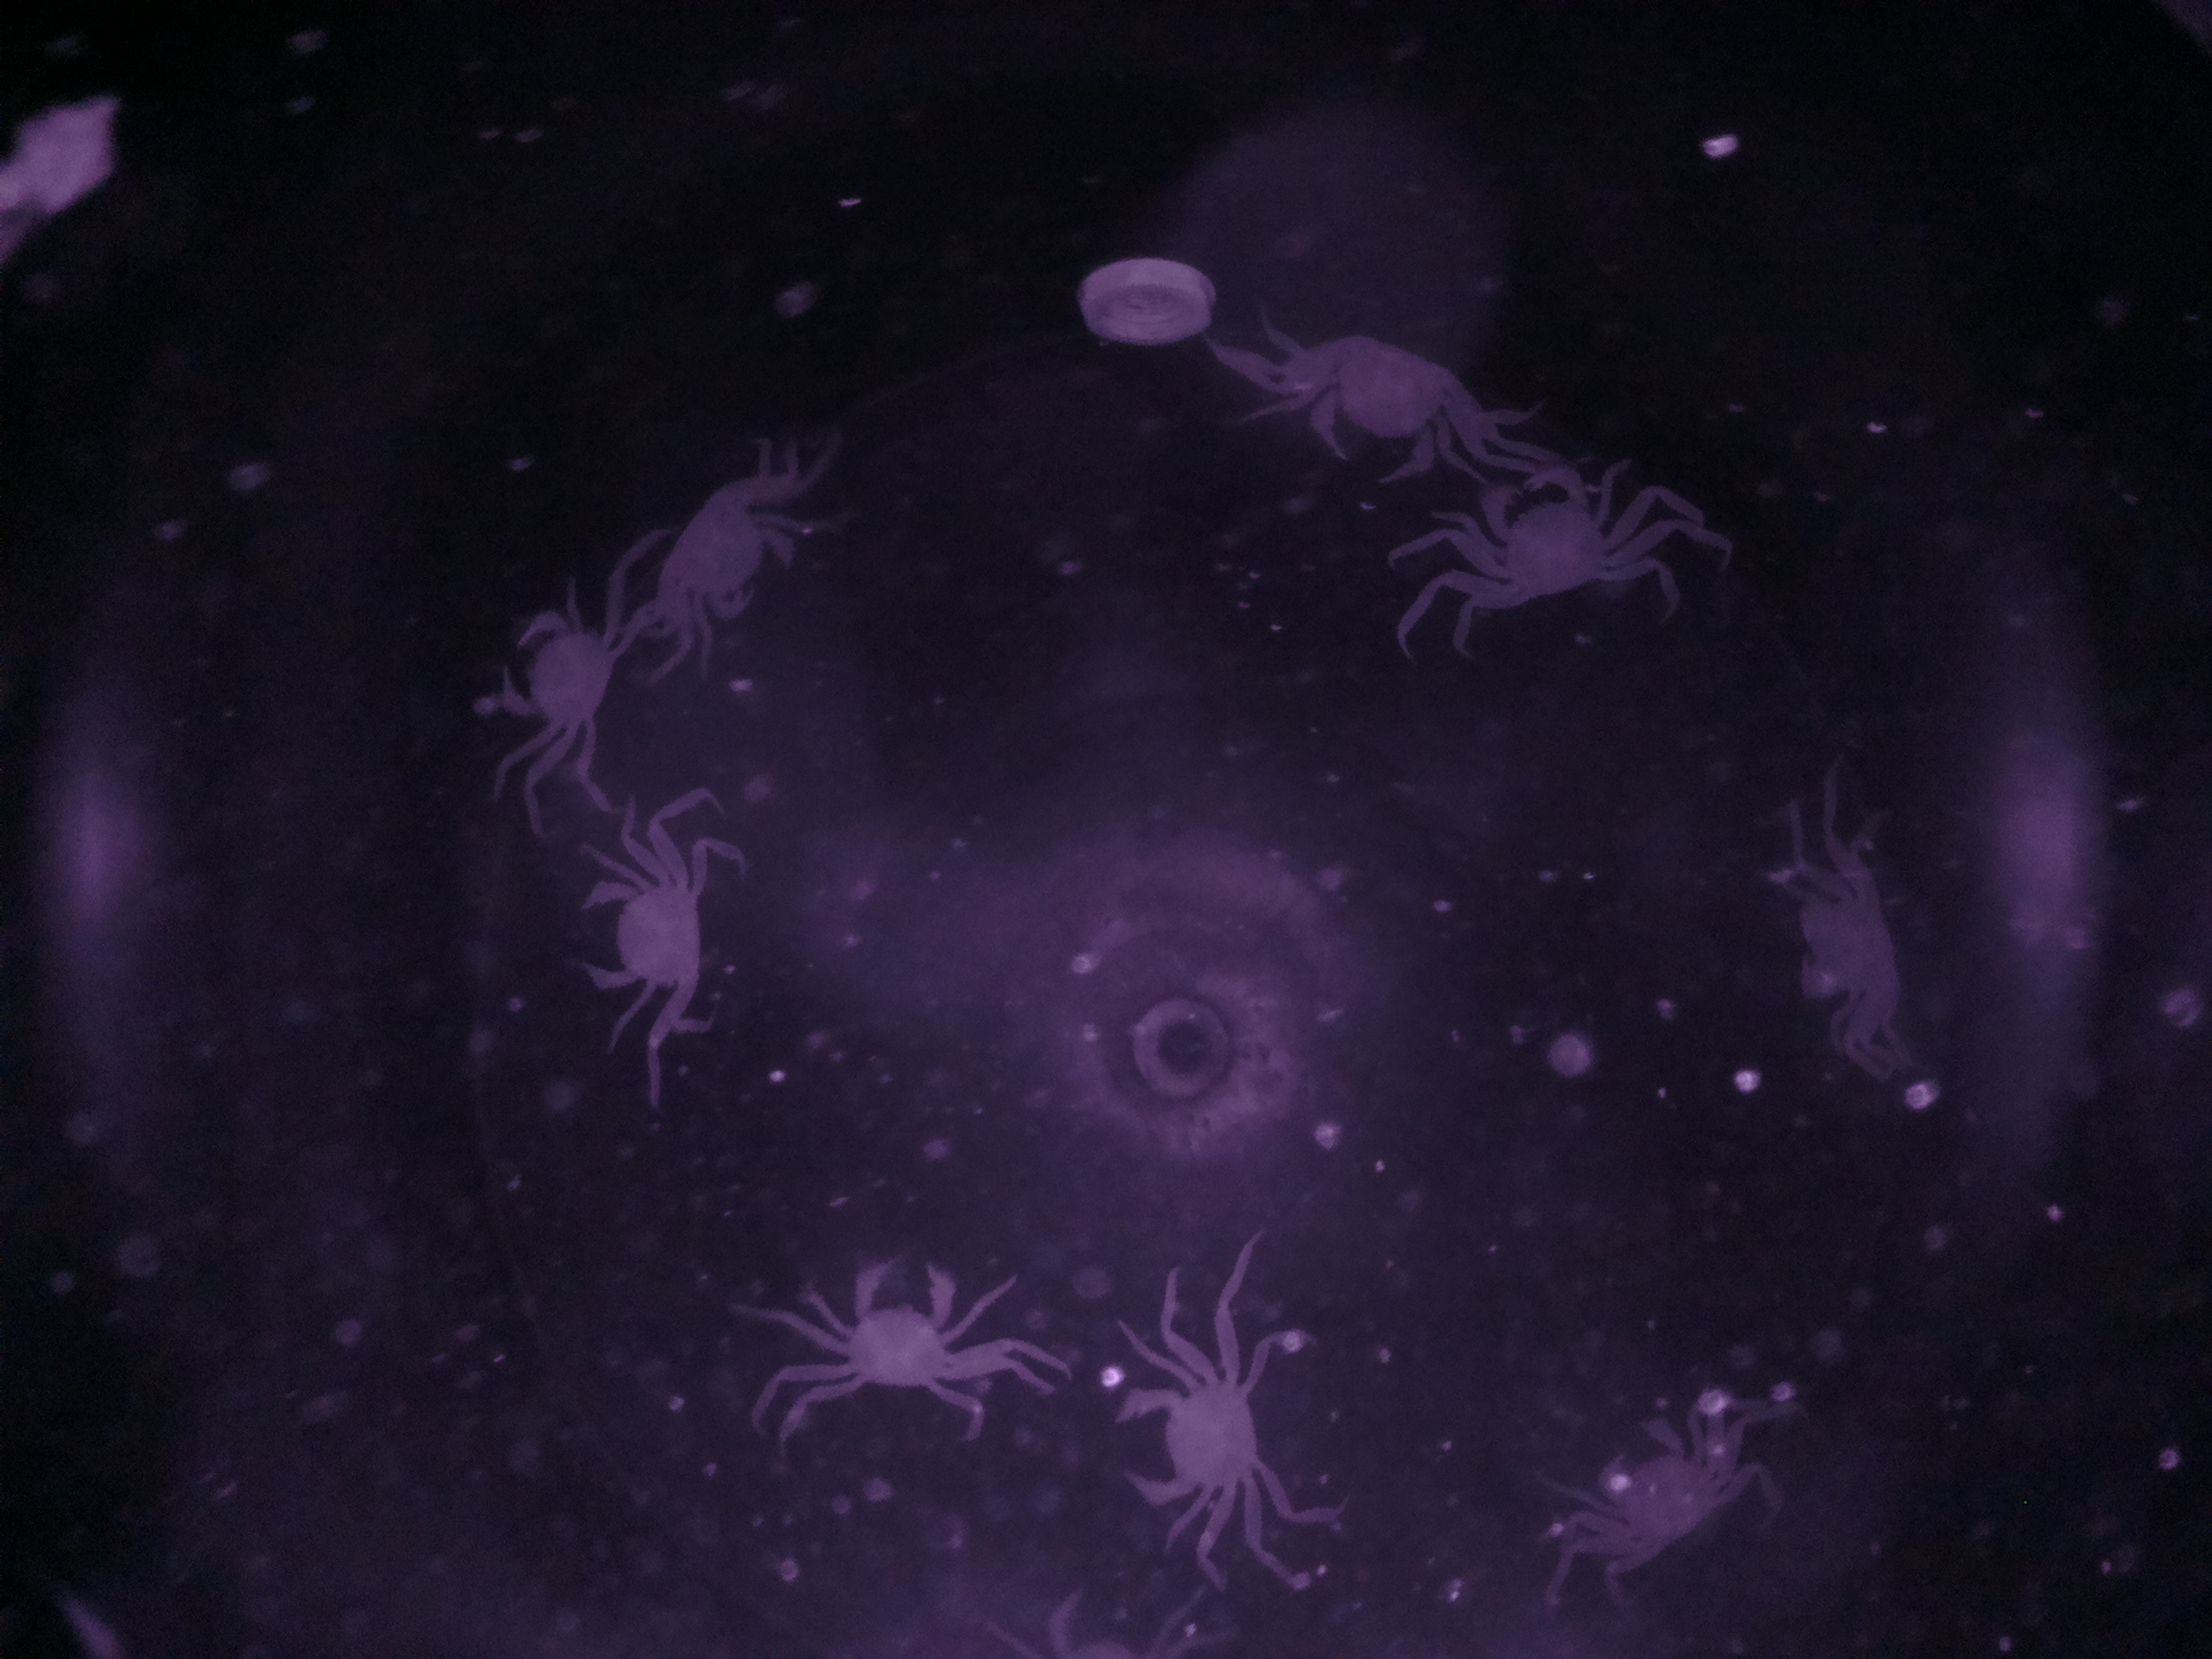Crab: (1282, 319, 1486, 497), (1446, 450, 1646, 629), (1092, 1361, 1305, 1530), (564, 836, 733, 1037), (796, 1249, 981, 1417), (472, 586, 639, 760), (643, 460, 808, 636)
